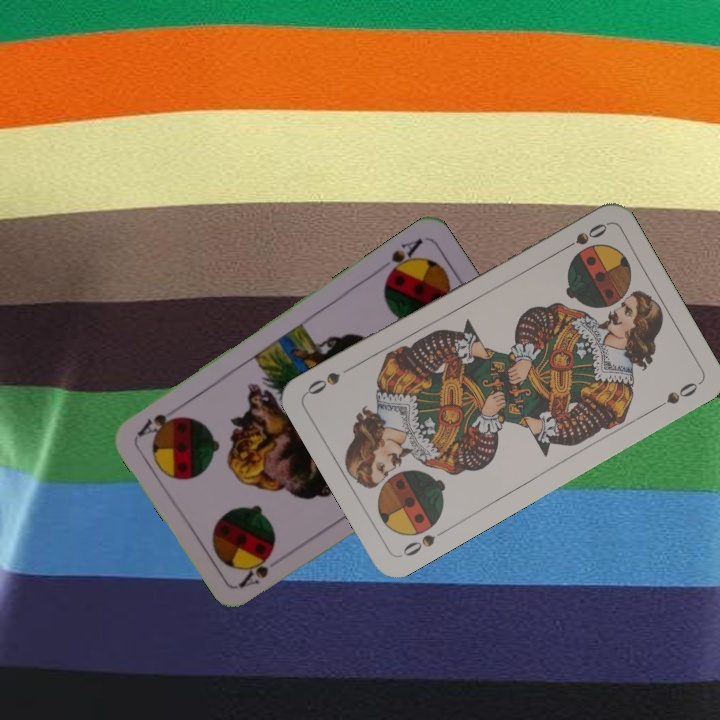SA: (382, 234, 426, 282), (235, 551, 275, 590)
SO: (555, 219, 610, 255), (398, 524, 451, 559)
